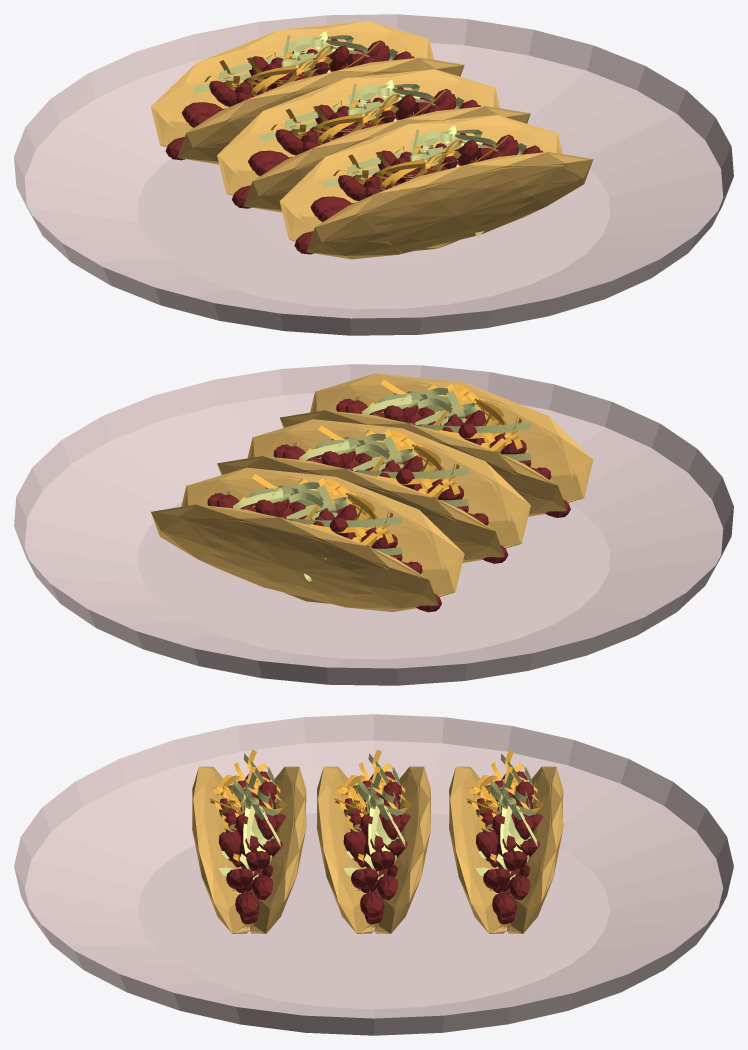
Rendered from compressed-tacos.glb.
3 renders of one model, top to bottom at view 1: azimuth 30°, elevation 25°; view 2: azimuth 150°, elevation 25°; view 3: azimuth 270°, elevation 25°, orthographic.
Size of the model in its own units: 11.28 by 2.58 by 11.28.
